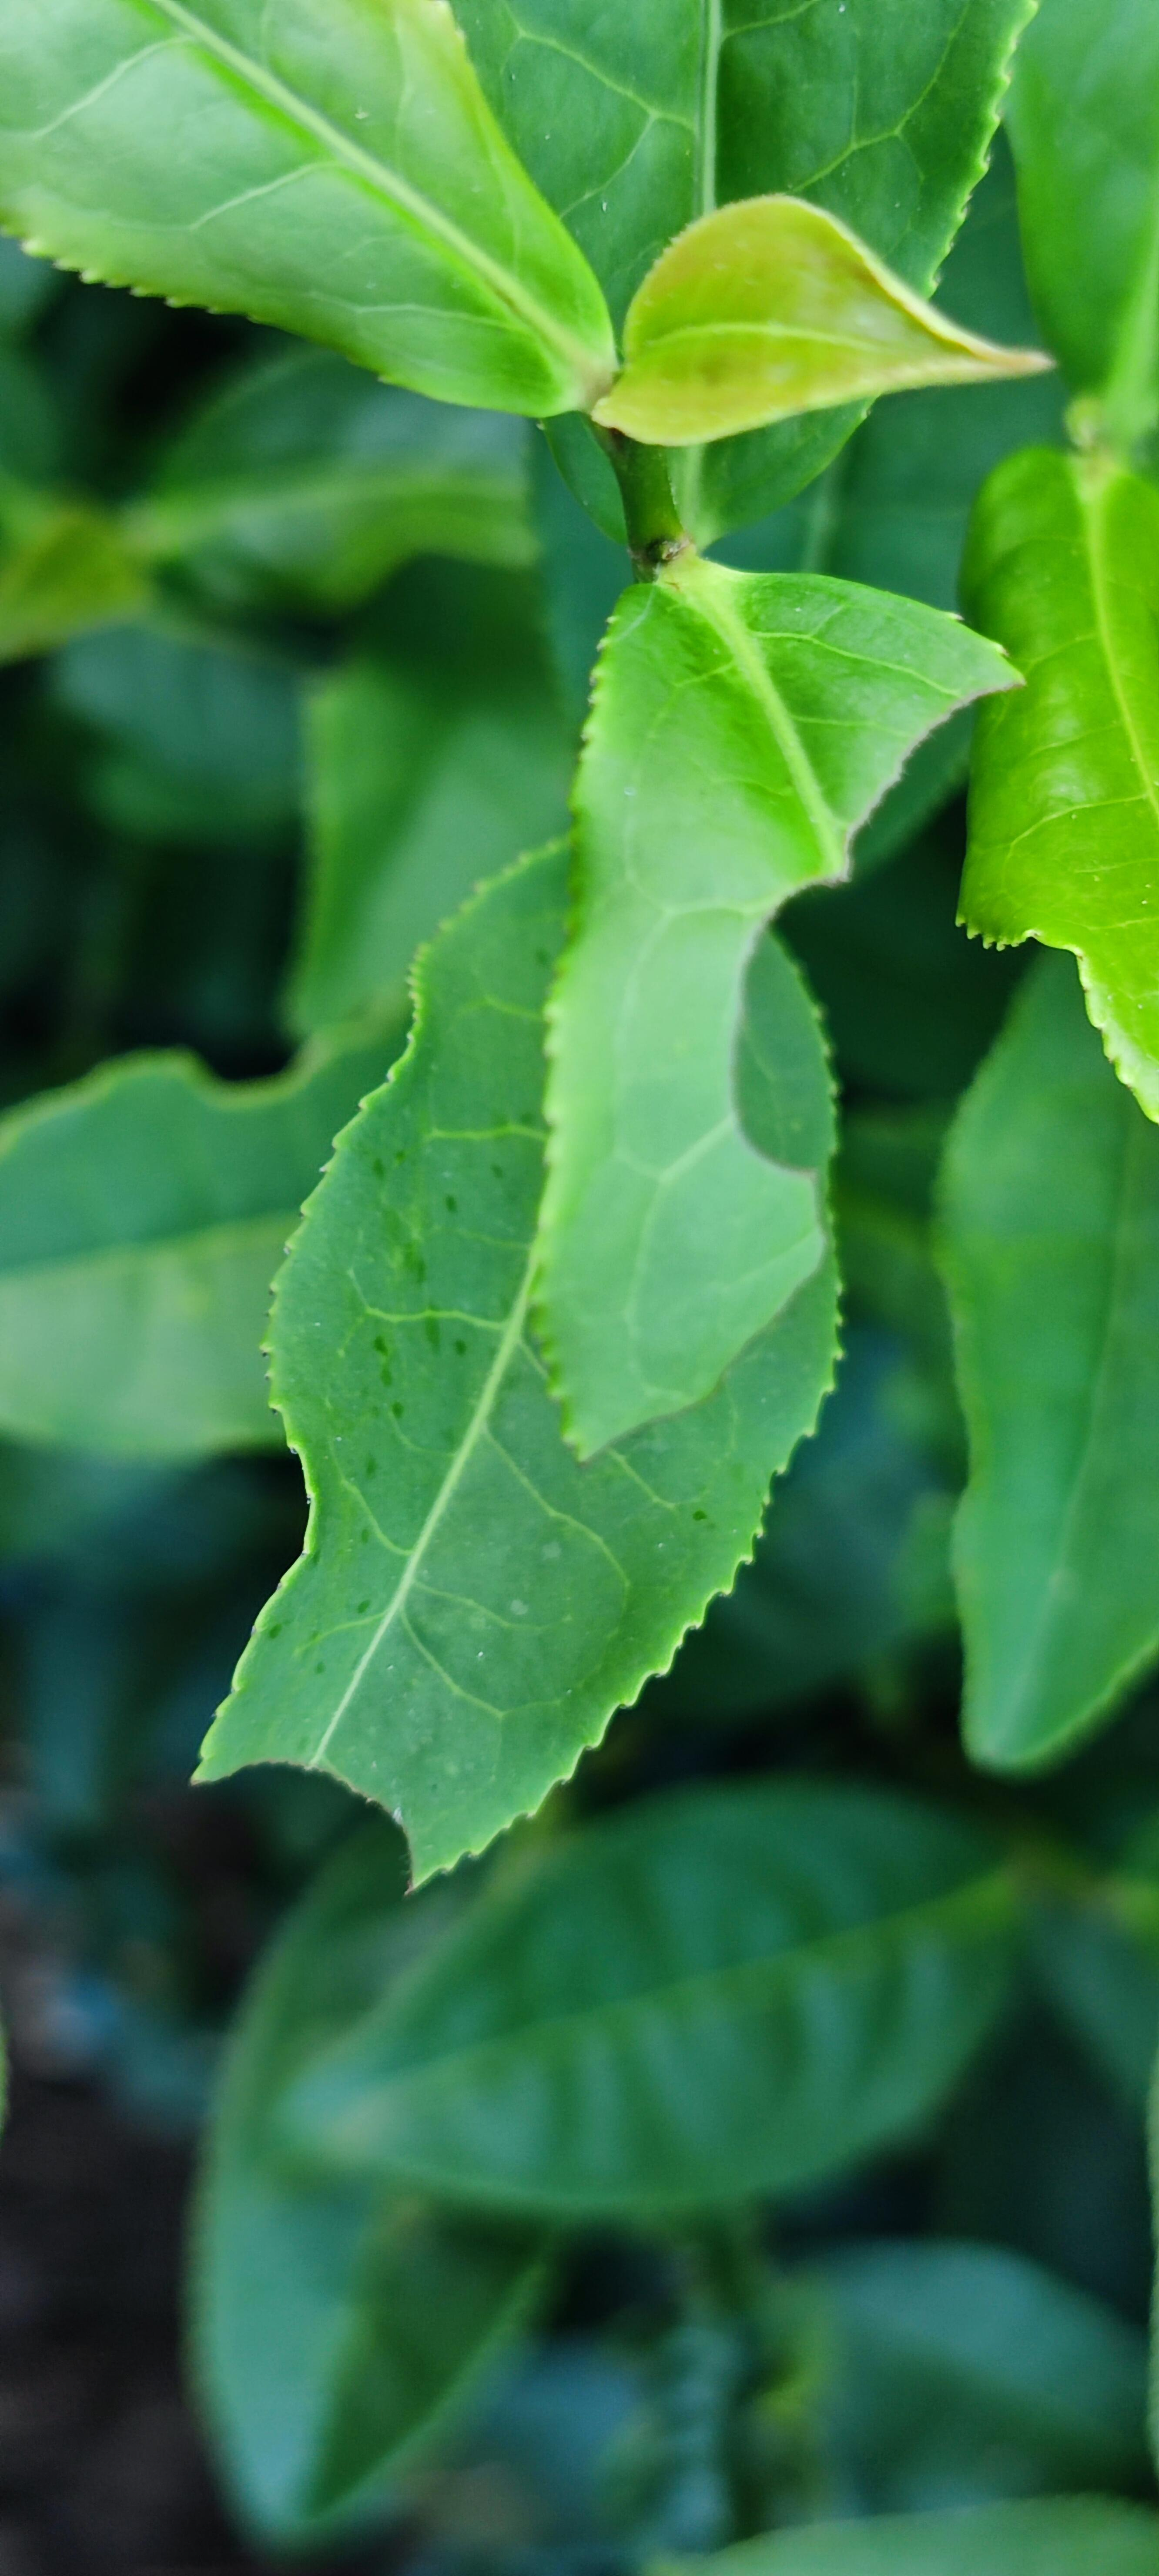chihuo_high: (525, 559, 1023, 1465)
chihuo_low: (190, 831, 849, 1899)
healthy: (926, 951, 1154, 1784)
tanju_low: (594, 184, 1061, 447)
